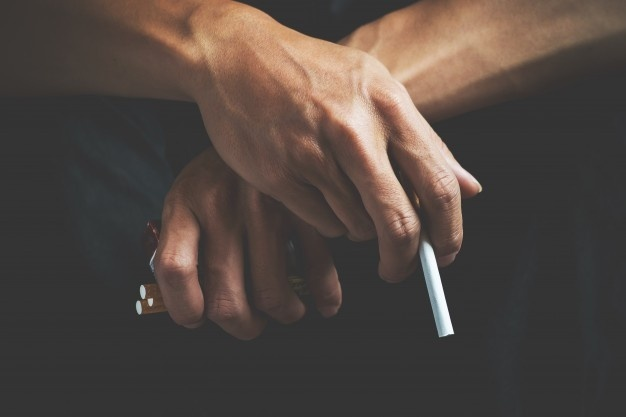sigaretta: (399, 179, 451, 343)
